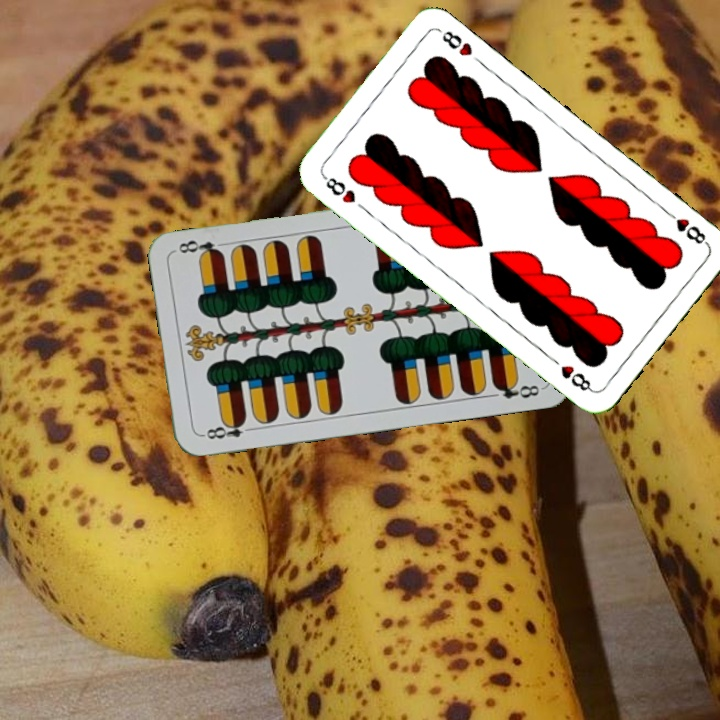E8: (198, 415, 257, 442)
H8: (661, 206, 711, 248), (318, 170, 359, 206)
